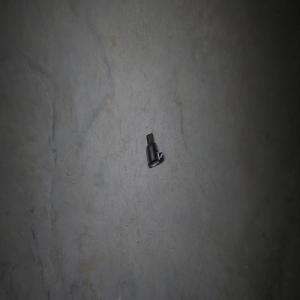MetalPart: (145, 132, 163, 167)
